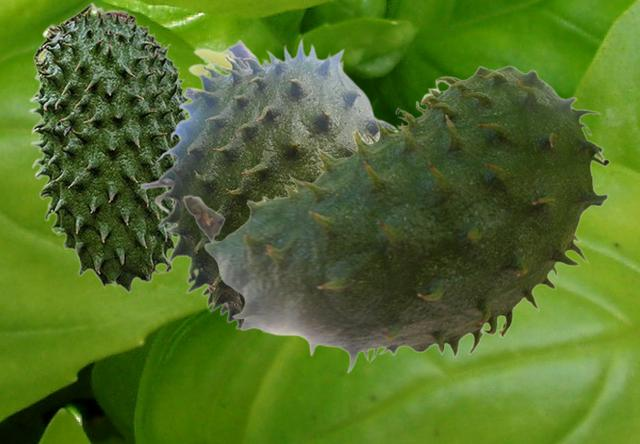guyabano: (182, 65, 609, 373), (139, 36, 395, 335), (28, 1, 189, 292)
